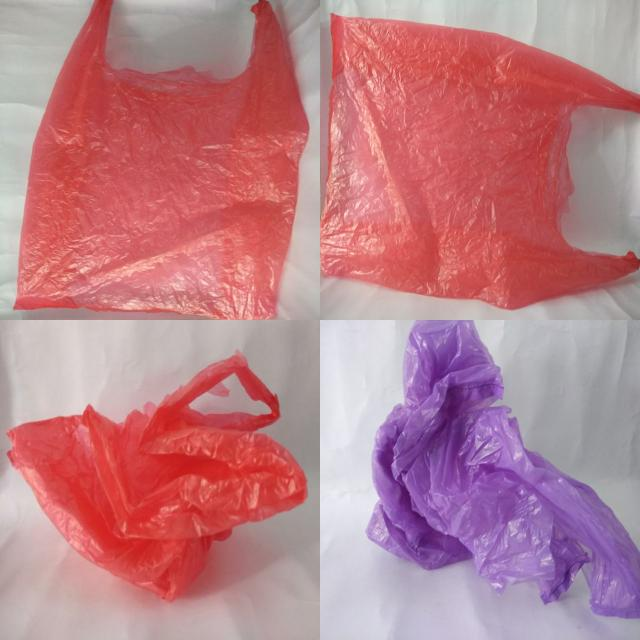Single-layer Plastic: (15, 0, 309, 319), (321, 15, 640, 309), (368, 321, 640, 614), (9, 354, 306, 600)
